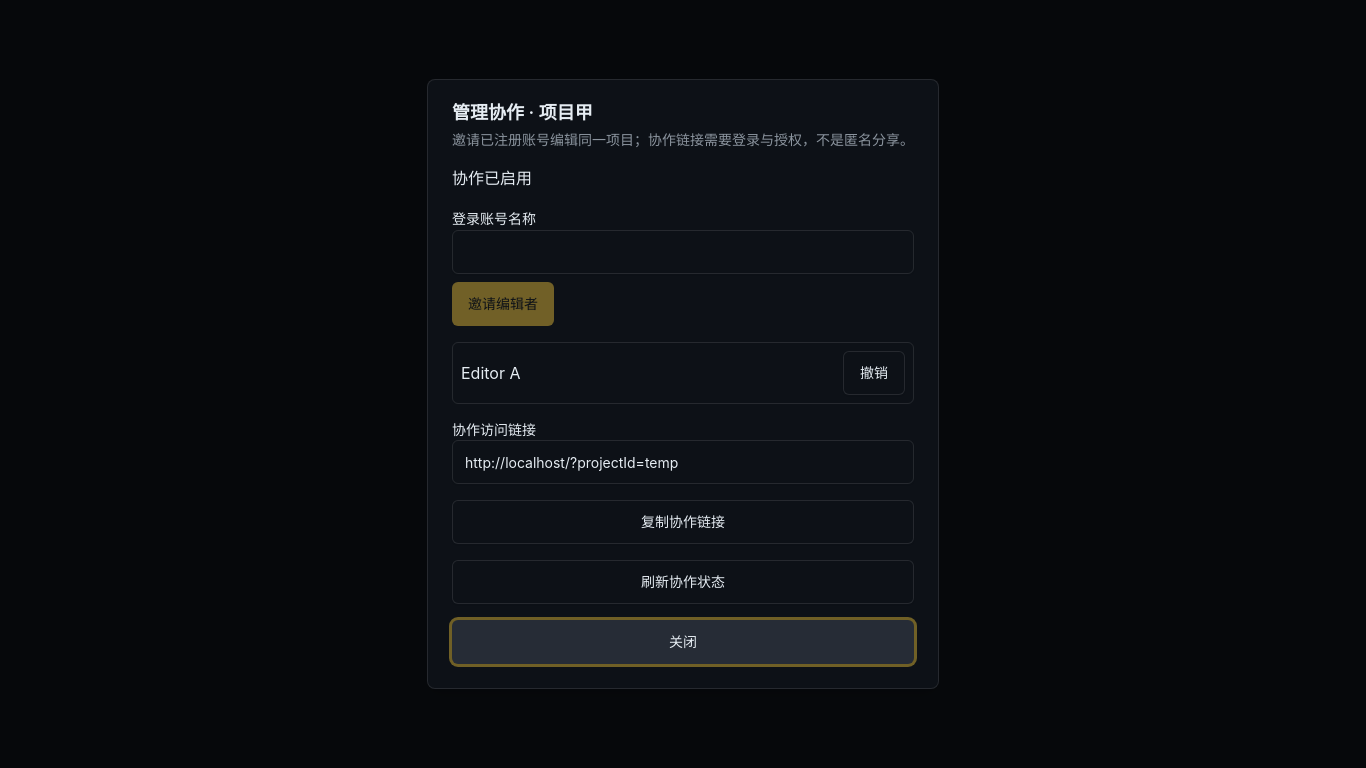
Test: real collaboration management controls › does not claim copy success when the clipboard rejects
The width and height of the screenshot is (1366, 768).
What coordinates should you click on to do the following:
click the button "复制协作链接"
I would click on:
 (683, 522)
Its box is x1=452 y1=500 x2=914 y2=544.
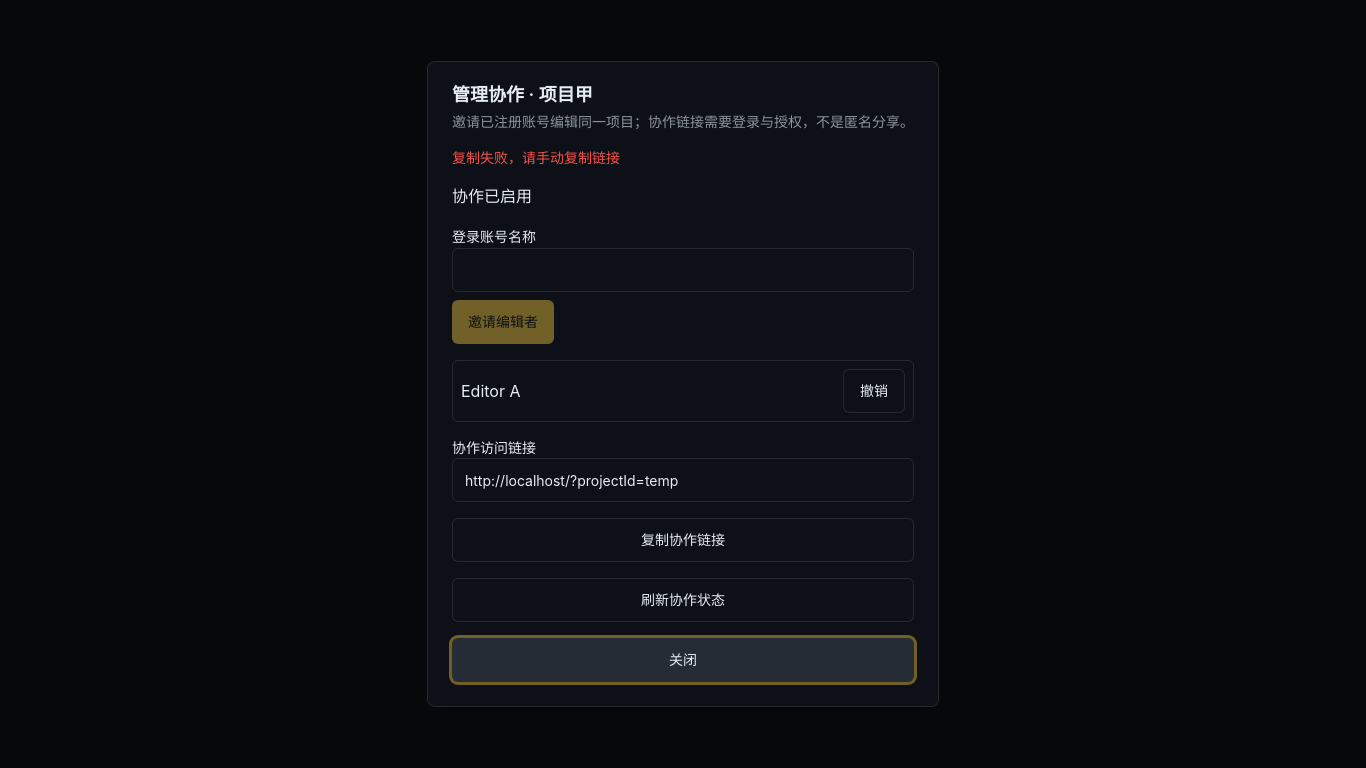
Check: the text "复制失败，请手动复制链接" is shown, box x1=452 y1=149 x2=620 y2=166
